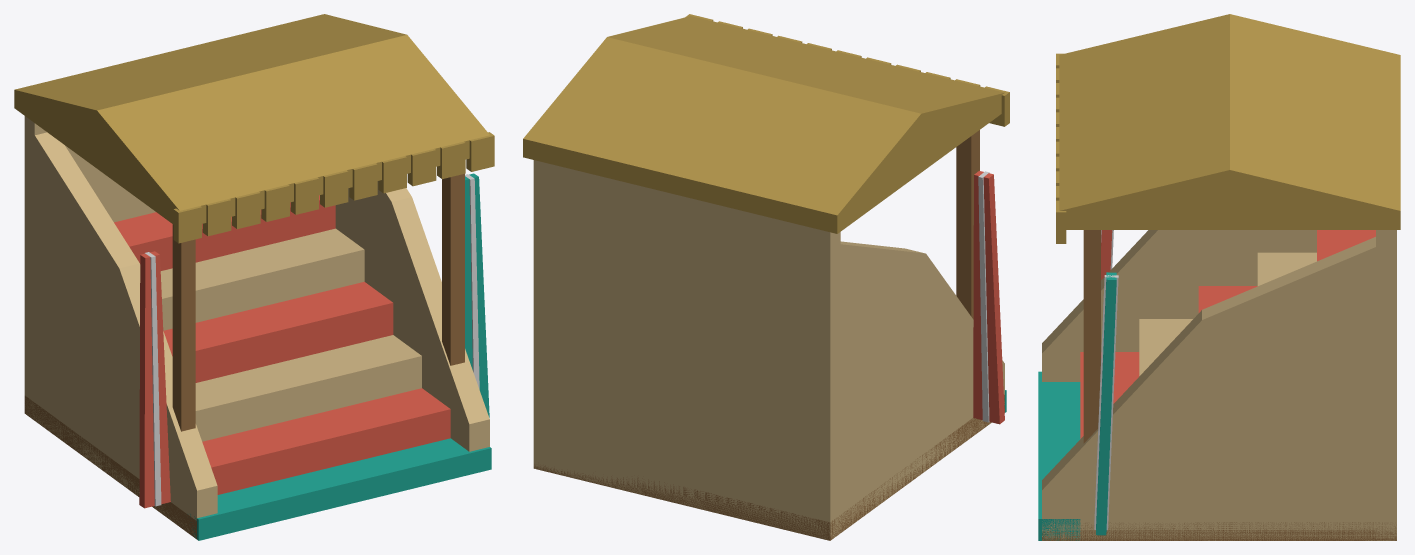
The model's file is stand.glb.
3 views of the same model, side by side, from view 1: azimuth 30°, elevation 25°; view 2: azimuth 150°, elevation 25°; view 3: azimuth 270°, elevation 25° (orthographic). The views are drawn at different scales.
Parts seen in each view (by area): view 1: palmCove-stand; view 2: palmCove-stand; view 3: palmCove-stand.
Boxes of the visible parts, left/top/right/bottom form: palmCove-stand: left=14, top=14, right=494, bottom=540; palmCove-stand: left=523, top=14, right=1009, bottom=540; palmCove-stand: left=1038, top=14, right=1400, bottom=540.
Bounding box in the file's own units: 1.18 × 1.19 × 1.04.
